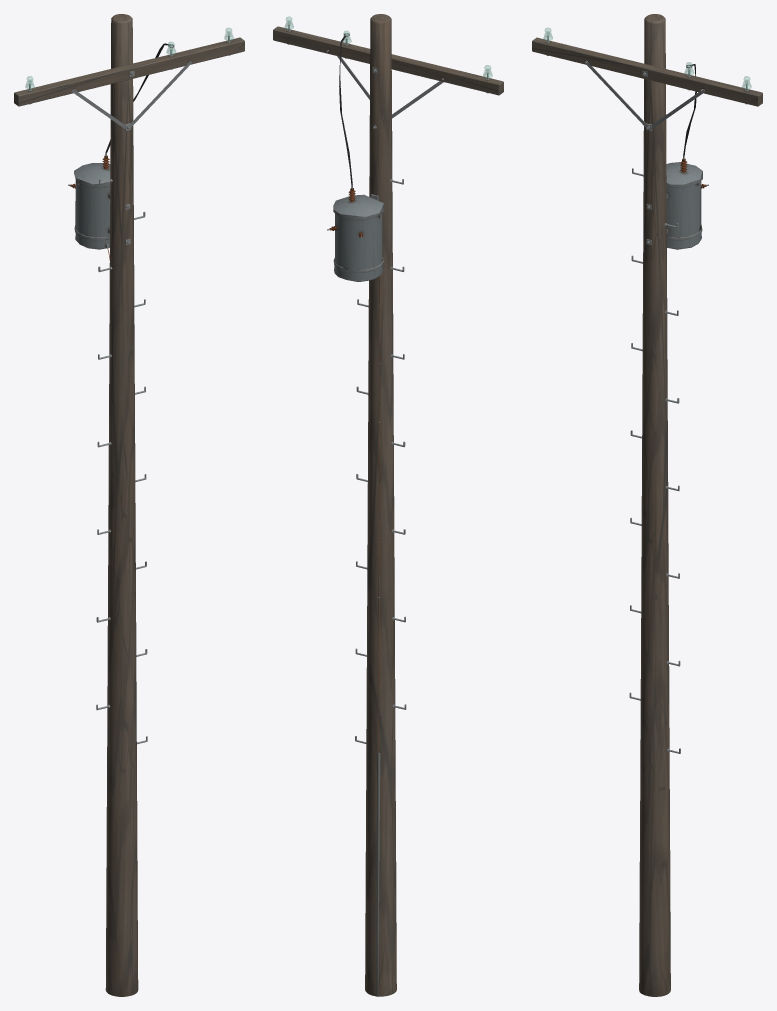
Rendered from utility_pole.glb.
The picture shows the model from 3 angles, left to right: view 1: azimuth 30°, elevation 25°; view 2: azimuth 150°, elevation 25°; view 3: azimuth 330°, elevation 25°; orthographic projection.
Visible parts, largest first — view 1: utility-pole_shaft, utility-pole_body; view 2: utility-pole_shaft, utility-pole_body; view 3: utility-pole_shaft, utility-pole_body.
Part boxes in pixels (box(x1,y1,x2,y2)): utility-pole_shaft: box(105, 14, 138, 996); utility-pole_body: box(14, 35, 244, 744); utility-pole_shaft: box(365, 14, 396, 996); utility-pole_body: box(273, 24, 503, 996); utility-pole_shaft: box(639, 14, 670, 996); utility-pole_body: box(532, 35, 762, 753).
Size of the model in its own units: 2.44 by 10 by 0.9043.
3 materials, 2 textured.
